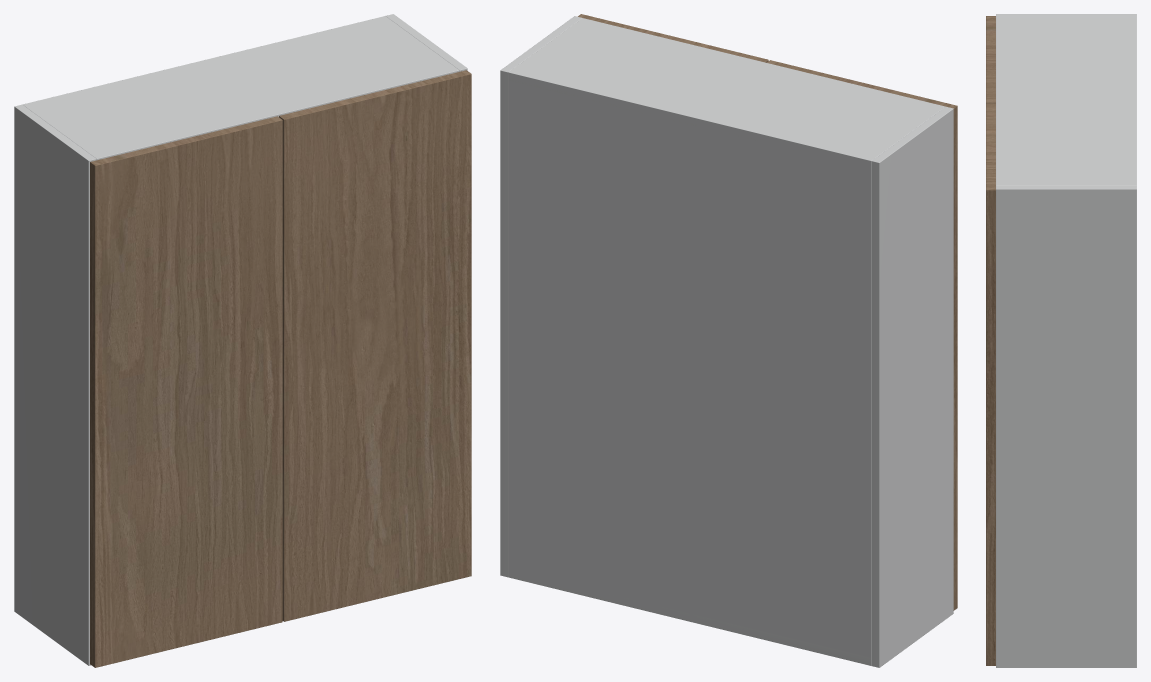
File: oppein-pb-mnw-w3342.glb
3 views of the same model, side by side, from view 1: azimuth 30°, elevation 25°; view 2: azimuth 150°, elevation 25°; view 3: azimuth 270°, elevation 25° (orthographic). The views are drawn at different scales.
Visible parts, largest first — view 1: Door, Door.001, Cabinet side, Cabinet top; view 2: Cabinet back, Cabinet side, Cabinet top, Cabinet side.001, Door, Cabinet bottom, Door.001; view 3: Cabinet side.001, Cabinet top, Door.001, Door, Cabinet side.
Part boxes in pixels (bbox=[...]): Door: bbox=[90, 116, 282, 667]; Door.001: bbox=[279, 70, 471, 621]; Cabinet side: bbox=[14, 104, 96, 665]; Cabinet top: bbox=[22, 16, 459, 160]; Cabinet back: bbox=[508, 73, 871, 665]; Cabinet side: bbox=[871, 106, 953, 667]; Cabinet top: bbox=[508, 18, 945, 163]; Cabinet side.001: bbox=[500, 16, 582, 577]; Door: bbox=[766, 60, 957, 610]; Cabinet bottom: bbox=[508, 573, 871, 665]; Door.001: bbox=[578, 14, 768, 62]; Cabinet side.001: bbox=[996, 185, 1136, 667]; Cabinet top: bbox=[996, 17, 1136, 185]; Door.001: bbox=[986, 103, 995, 665]; Door: bbox=[986, 16, 995, 103]; Cabinet side: bbox=[996, 14, 1136, 17].
Bounding box in the file's own units: 0.8382 × 1.07 × 0.3048.
2 materials, 1 textured.
